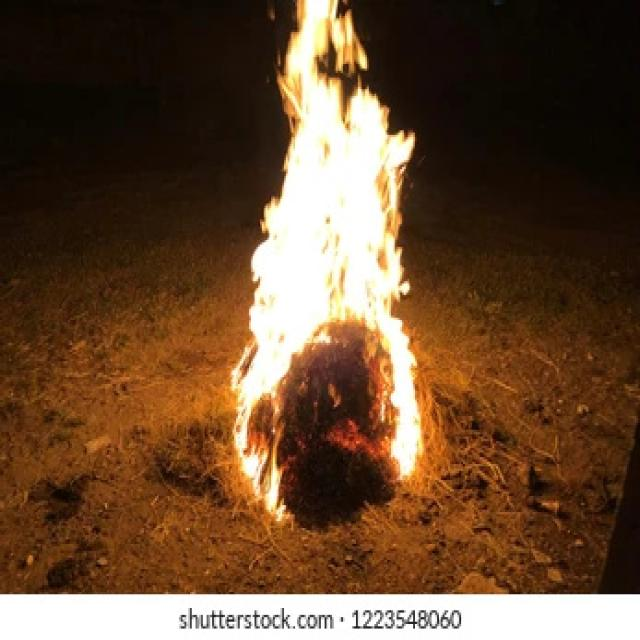fire: (229, 0, 423, 521)
